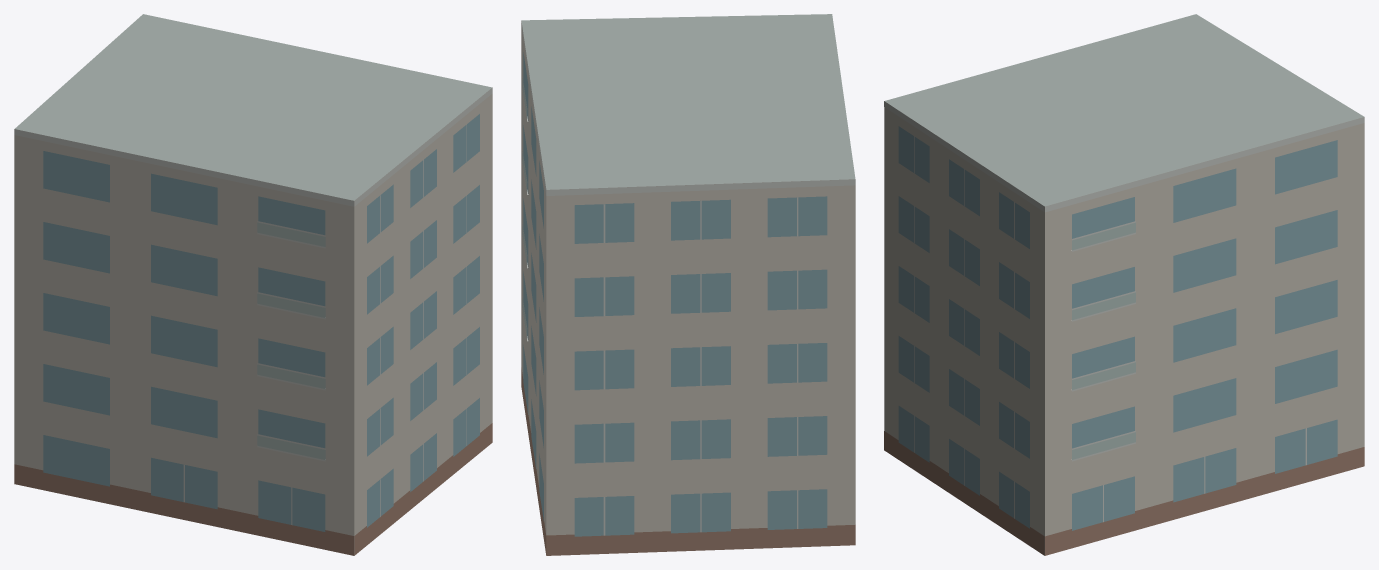
Rendered from survey-upis-32881732.glb.
3 renders of one model, left to right at view 1: azimuth 30°, elevation 25°; view 2: azimuth 150°, elevation 25°; view 3: azimuth 270°, elevation 25°, orthographic. The views are drawn at different scales.
Visible parts, largest first — view 1: survey-upis-32881732.tmp; view 2: survey-upis-32881732.tmp; view 3: survey-upis-32881732.tmp.
Part boxes in pixels (x1,y1,x2,y2): survey-upis-32881732.tmp: [14, 14, 492, 555]; survey-upis-32881732.tmp: [521, 14, 855, 555]; survey-upis-32881732.tmp: [884, 14, 1364, 555].
Size of the model in its own units: 17.03 by 14.4 by 17.96.
